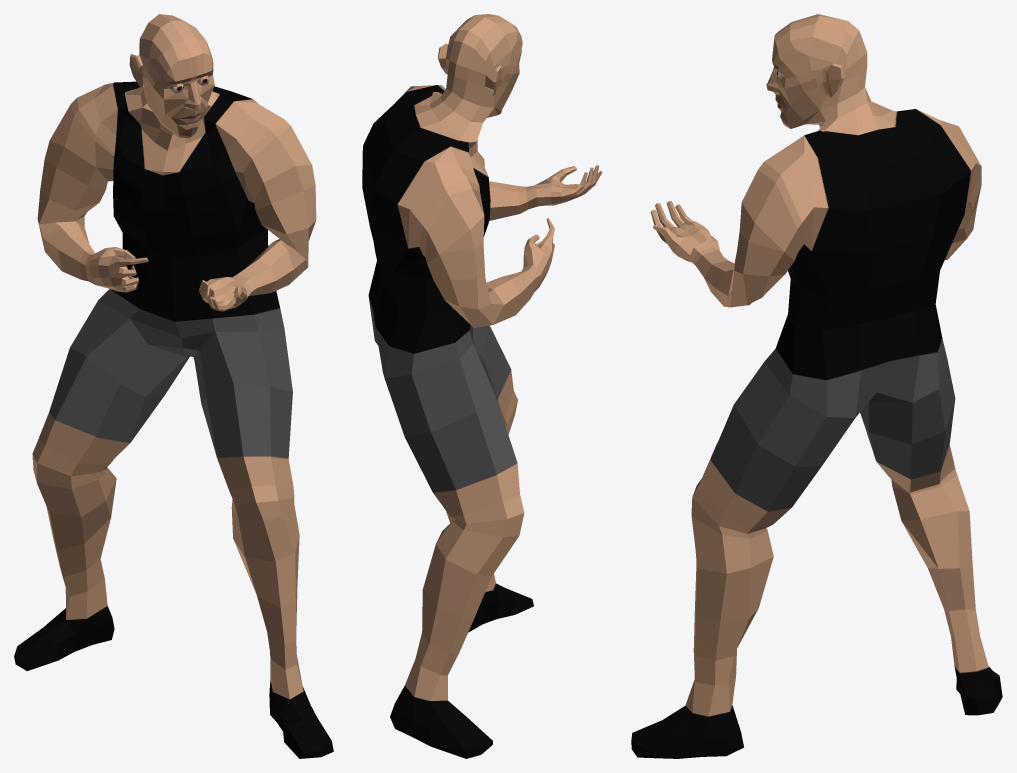
The model's file is PlayerDead(0).obj.
The picture shows the model from 3 angles, left to right: view 1: azimuth 30°, elevation 25°; view 2: azimuth 150°, elevation 25°; view 3: azimuth 270°, elevation 25°; orthographic projection. The views are drawn at different scales.
Visible parts, largest first — view 1: Plane002; view 2: Plane002; view 3: Plane002.
Part boxes in pixels (left/top/right/bottom): Plane002: left=14, top=14, right=333, bottom=758; Plane002: left=362, top=14, right=602, bottom=758; Plane002: left=631, top=14, right=1002, bottom=758.
Size of the model in its own units: 530 by 1728 by 826.
